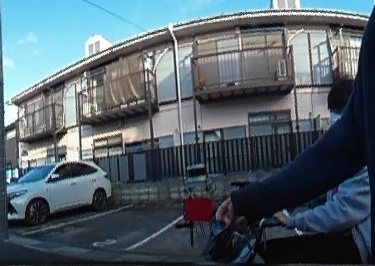person: (309, 76, 369, 266)
